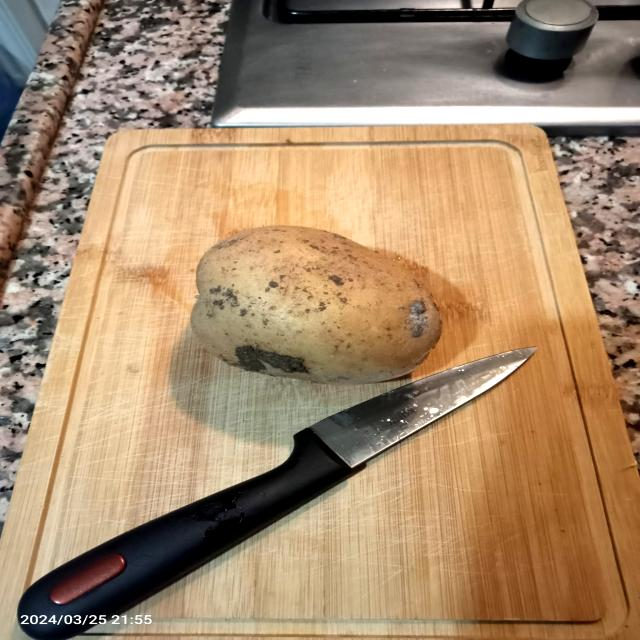potato: (181, 222, 468, 395)
